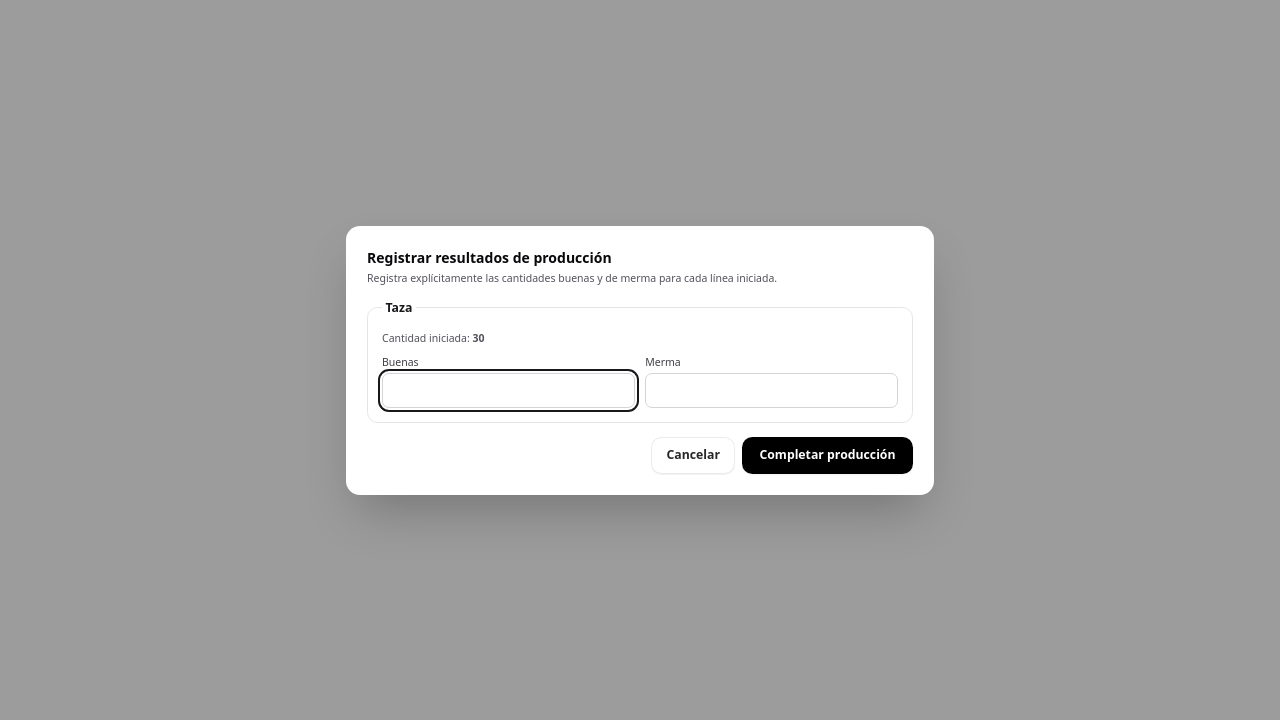
DialogoResultadosProduccion › rechaza una suma que no coincide con lo iniciado
Type "28" into the field labelled "Buenas" at (508, 390), box 382,372 -> 635,408
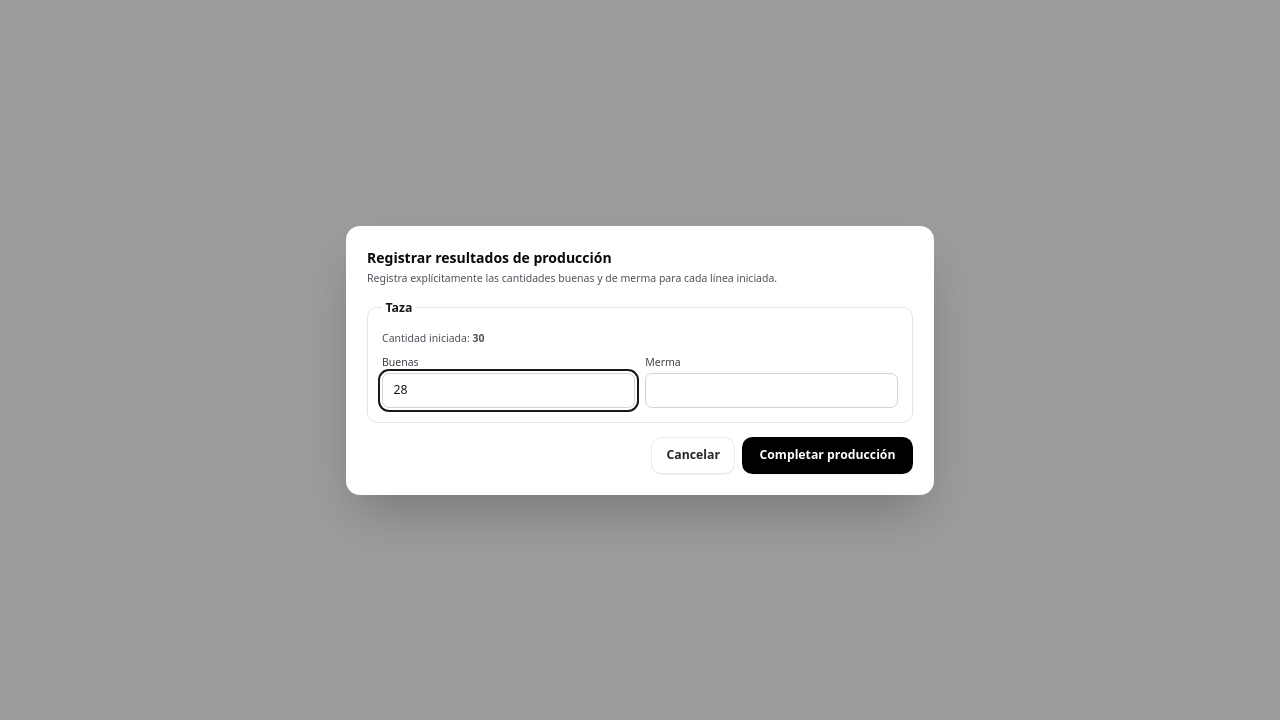
Type "1" into the field labelled "Merma" at (772, 390), box 645,372 -> 898,408
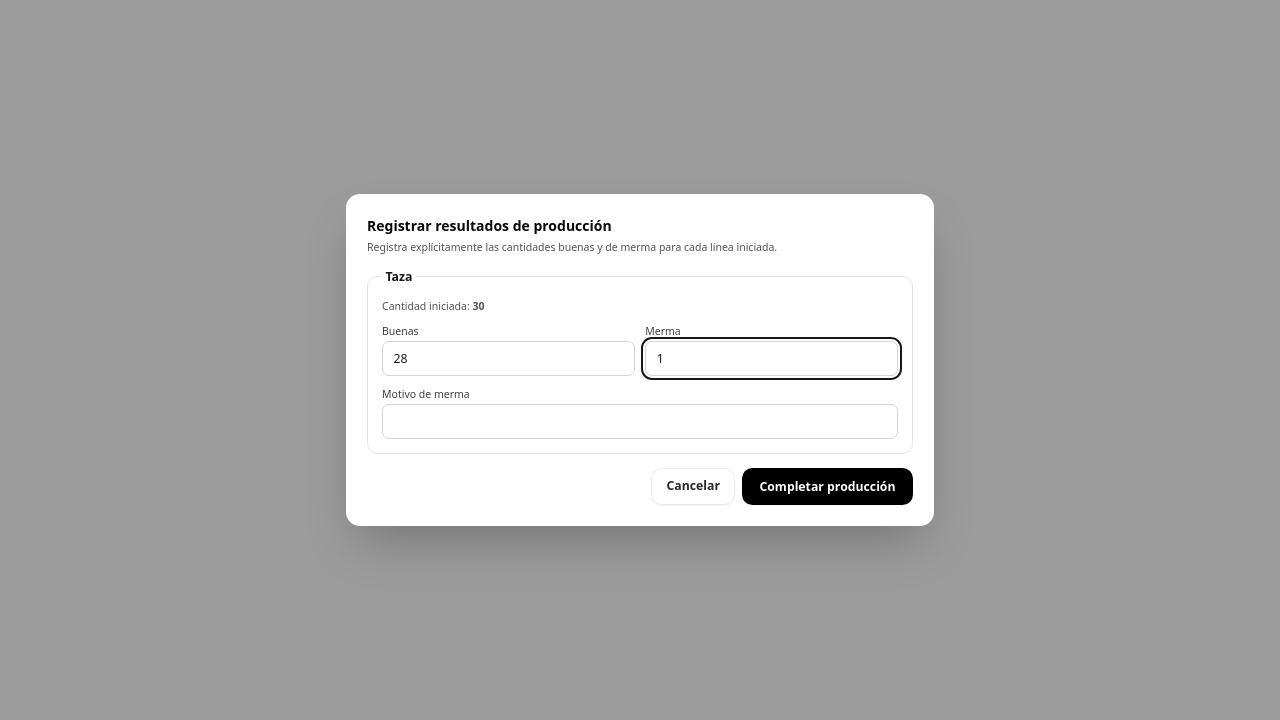
Type "Prueba" into the field labelled "Motivo de merma" at (640, 422), box 382,404 -> 898,439
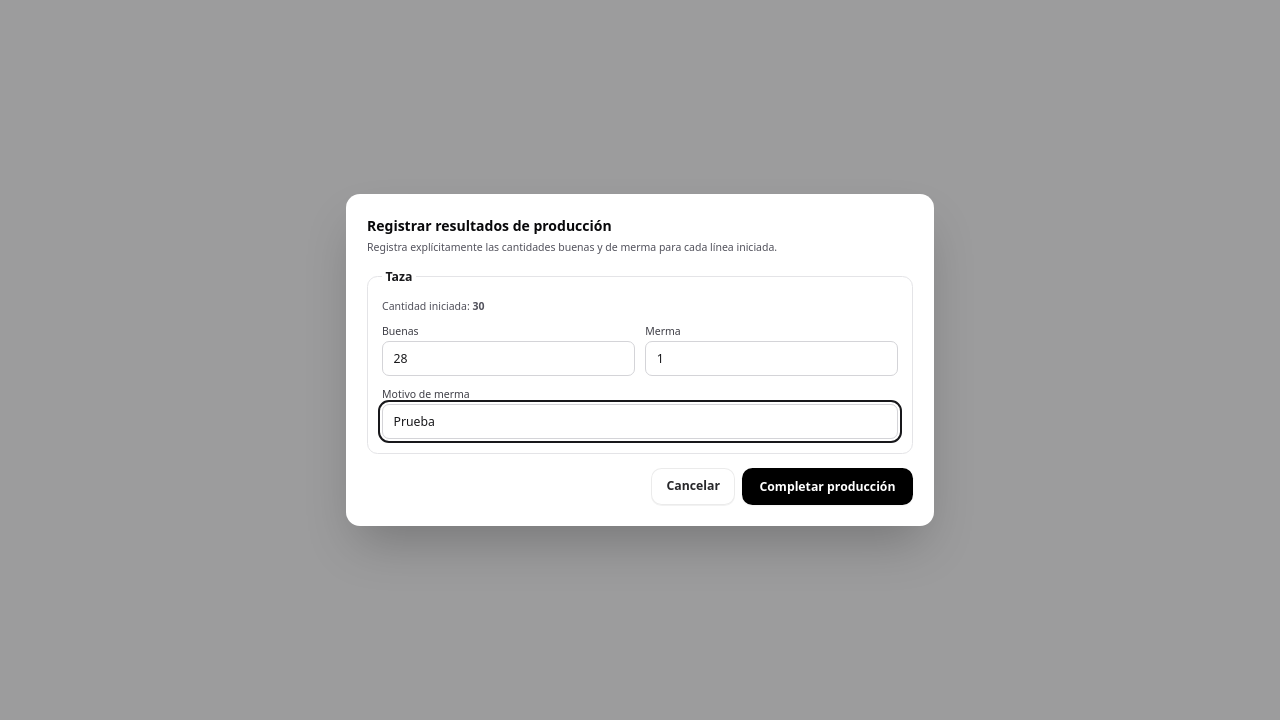
Click the button "Completar producción" at (828, 486), box 742,468 -> 913,505
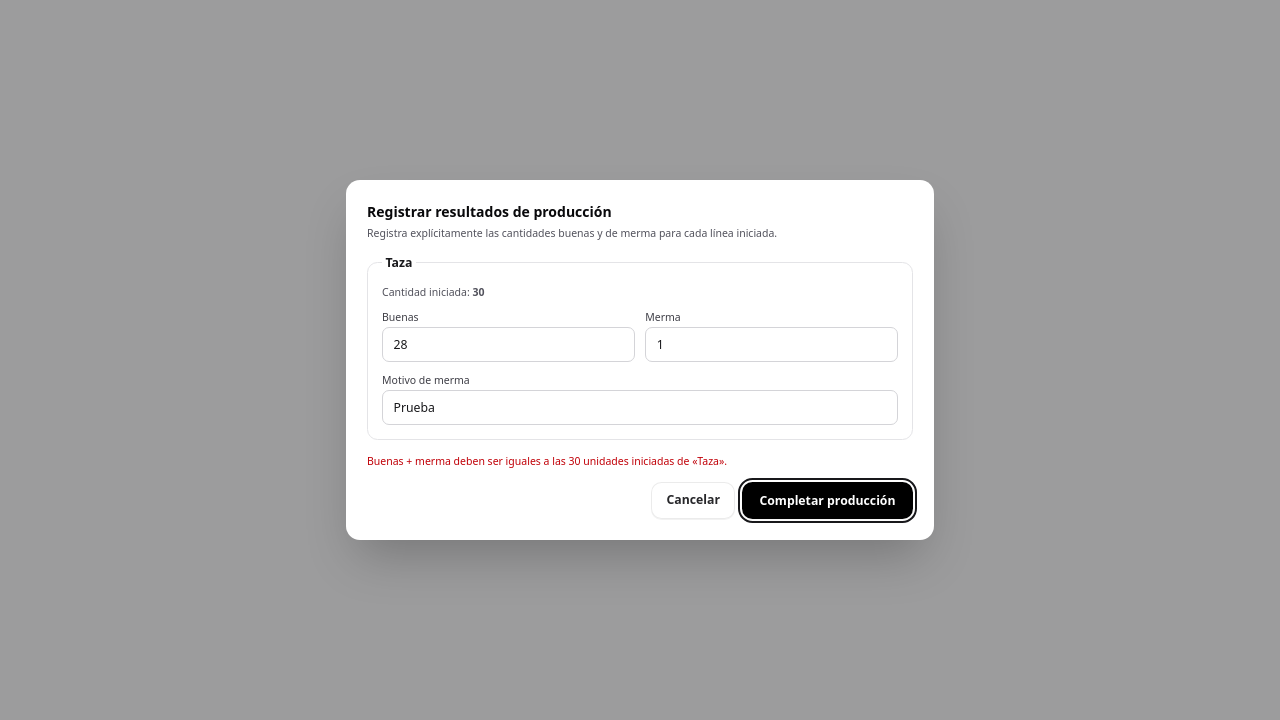
Expected: the message shows "deben ser iguales a las 30 unidades iniciadas", 367,454 -> 727,468
